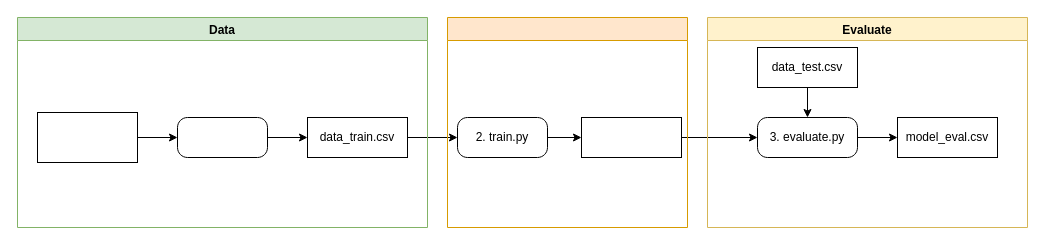
This 1045x245 diagram has some shape labels left out. The box of each missing label's shape, as (x1, y1, x2, y2) in pixels:
1. read.py: (176, 116, 268, 158)
data_init.csv: (36, 112, 138, 162)
model_1.0.pkl: (580, 116, 682, 158)
Vertical Container: (446, 16, 688, 228)
